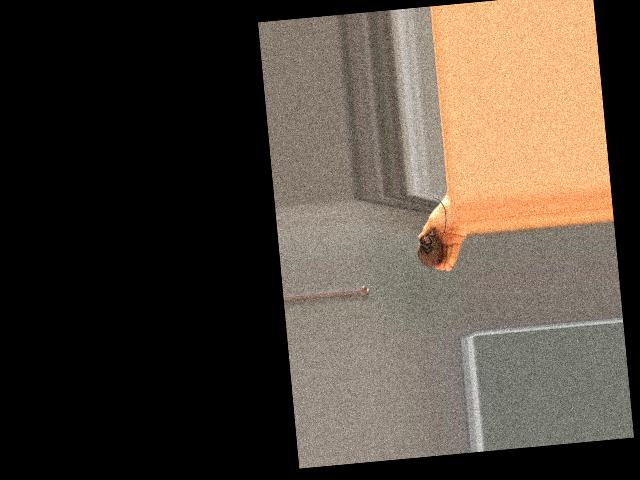beet: (413, 197, 452, 277)
